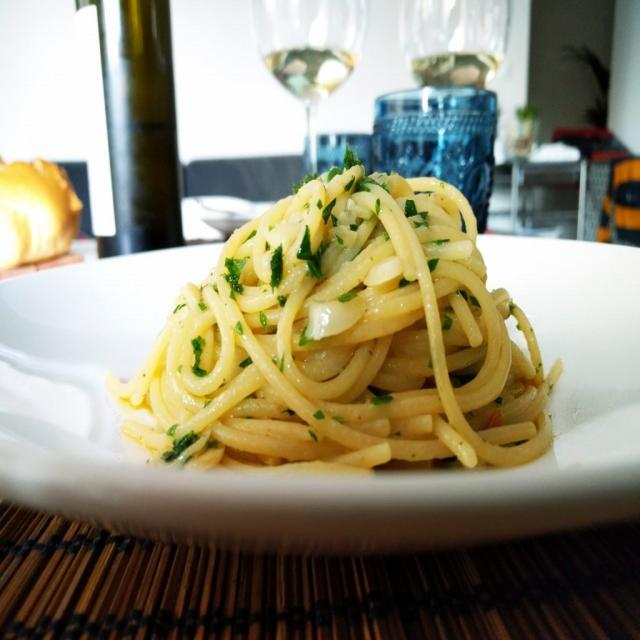Oil pasta: (150, 94, 564, 529)
